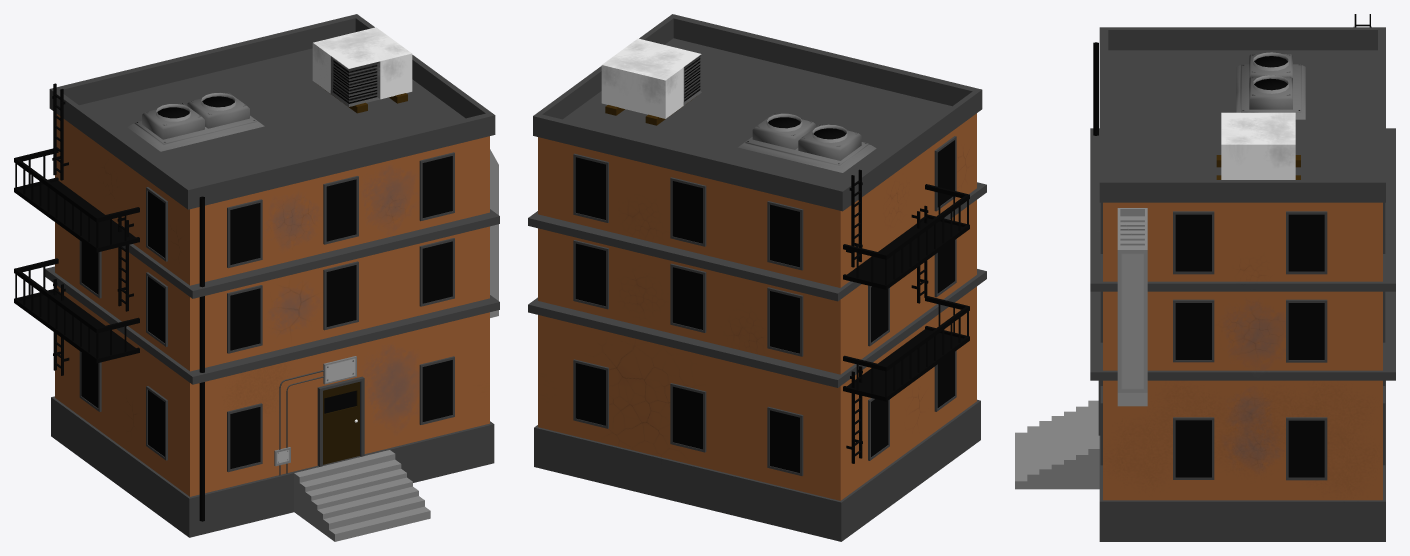
The picture shows the model from 3 angles, left to right: view 1: azimuth 30°, elevation 25°; view 2: azimuth 150°, elevation 25°; view 3: azimuth 270°, elevation 25°; orthographic projection. The views are drawn at different scales.
Visible parts, largest first — view 1: MG_BUILDING_ASSET; view 2: MG_BUILDING_ASSET; view 3: MG_BUILDING_ASSET.
Boxes of the visible parts, x1,y1,x2,y2 form: MG_BUILDING_ASSET: [14, 14, 499, 541]; MG_BUILDING_ASSET: [528, 14, 986, 541]; MG_BUILDING_ASSET: [1015, 14, 1395, 541].
Bounding box in the file's own units: 7.88 × 7.81 × 6.99.
Materials: 1 (1 with a texture image).
